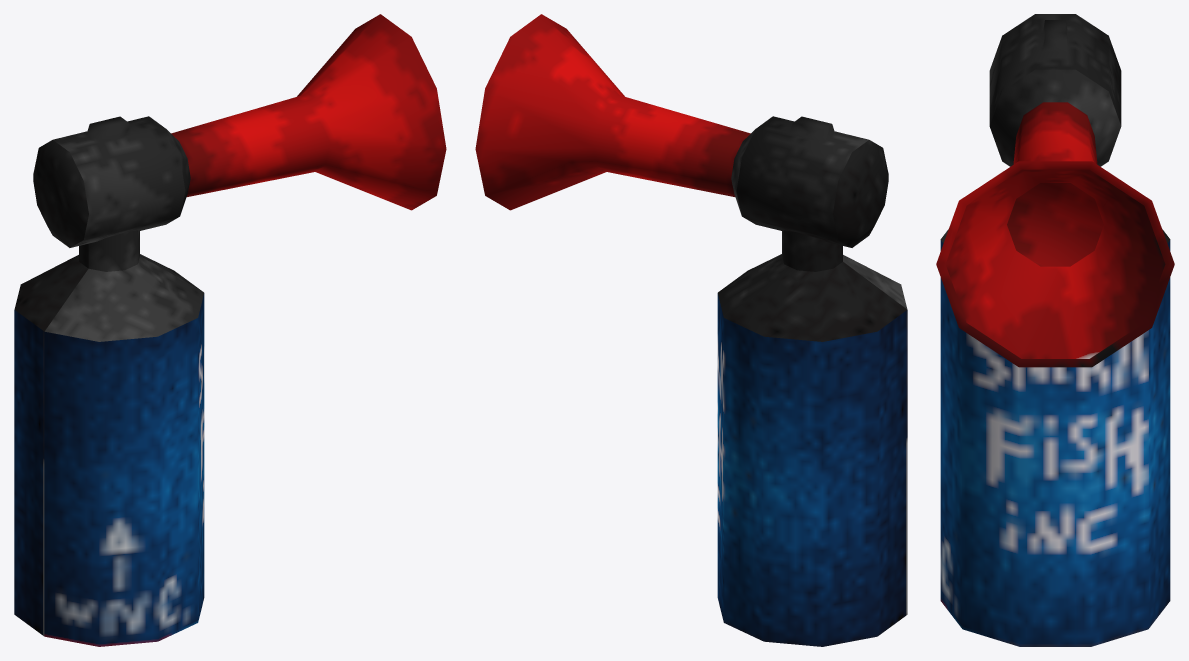
File: airhorn.fbx
The picture shows the model from 3 angles, left to right: view 1: azimuth 30°, elevation 25°; view 2: azimuth 150°, elevation 25°; view 3: azimuth 270°, elevation 25°; orthographic projection. The views are drawn at different scales.
Visible parts, largest first — view 1: Cylinder; view 2: Cylinder; view 3: Cylinder.
Boxes of the visible parts, box(x1,y1,x2,y2) form: Cylinder: box(14, 14, 446, 646); Cylinder: box(475, 14, 907, 646); Cylinder: box(936, 14, 1174, 646).
Bounding box in the file's own units: 184 × 246 × 87.81.
1 material, 1 textured.
